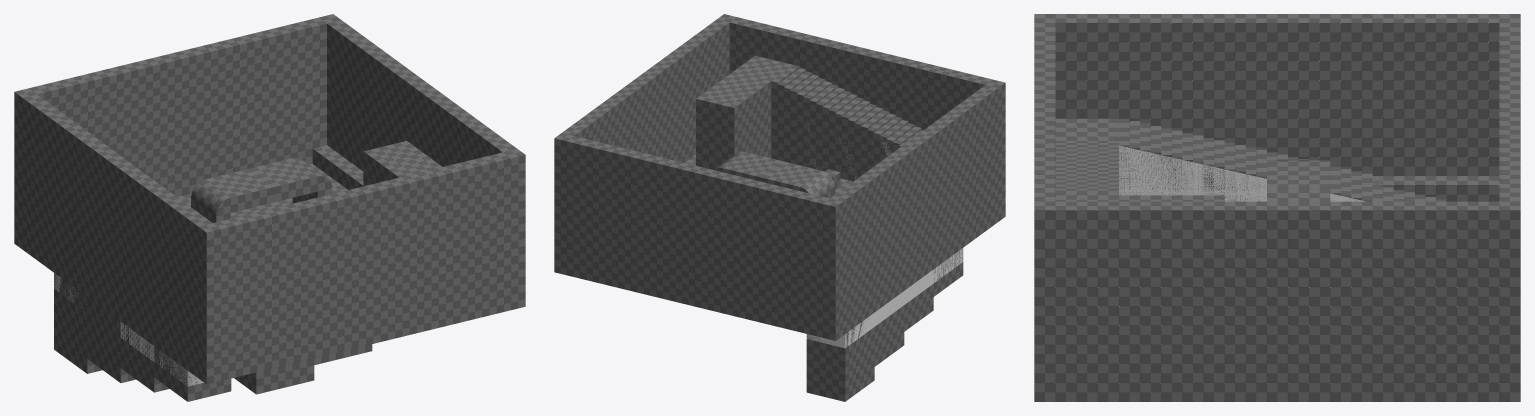
File: test_room.glb
3 views of the same model, side by side, from view 1: azimuth 30°, elevation 25°; view 2: azimuth 150°, elevation 25°; view 3: azimuth 270°, elevation 25° (orthographic). The views are drawn at different scales.
Visible parts, largest first — view 1: E_Mesh_Wall, E_Mesh_Arch, E_Step.001, E_Step.002, E_Mesh_Slab.001, E_Step.004, E_Step.005, E_Step.003, E_Mesh_Edge.001, E_Proxy_Steps, E_Step.006; view 2: E_Mesh_Wall, E_Mesh_Slab.001, E_Step.007, E_Step.006, E_Step.001, E_Mesh_Arch, E_Proxy_Steps, E_Step.005, E_Step.002, E_Step.003, E_Step.004; view 3: E_Mesh_Wall, E_Proxy_Steps, E_Step.004, E_Step.003, E_Mesh_Arch, E_Mesh_Edge.002, E_Mesh_Slab.002, E_Step.002, E_Step.007, E_Mesh_Slab.001, E_Step.006, E_Step.005 (+1 smaller).
Part boxes in pixels (box(x1,y1,x2,y2)): E_Mesh_Wall: box(14, 14, 525, 384); E_Mesh_Arch: box(191, 157, 332, 222); E_Step.001: box(54, 273, 102, 373); E_Step.002: box(87, 297, 135, 382); E_Mesh_Slab.001: box(363, 141, 442, 186); E_Step.004: box(154, 346, 231, 401); E_Step.005: box(234, 358, 314, 394); E_Step.003: box(120, 323, 169, 392); E_Mesh_Edge.001: box(312, 145, 363, 189); E_Proxy_Steps: box(54, 273, 203, 386); E_Step.006: box(314, 344, 372, 364); E_Mesh_Wall: box(554, 14, 1005, 340); E_Mesh_Slab.001: box(696, 55, 792, 169); E_Step.007: box(771, 65, 844, 170); E_Step.006: box(822, 91, 895, 181); E_Step.001: box(806, 321, 874, 401); E_Mesh_Arch: box(714, 151, 834, 198); E_Proxy_Steps: box(806, 248, 963, 348); E_Step.005: box(873, 116, 923, 166); E_Step.002: box(874, 305, 904, 366); E_Step.003: box(904, 284, 933, 331); E_Step.004: box(933, 248, 963, 296); E_Mesh_Wall: box(1034, 14, 1520, 401); E_Proxy_Steps: box(1119, 145, 1365, 201); E_Step.004: box(1119, 118, 1203, 194); E_Step.003: box(1203, 138, 1287, 201); E_Mesh_Arch: box(1267, 160, 1330, 201); E_Mesh_Edge.002: box(1372, 176, 1499, 201); E_Mesh_Slab.002: box(1055, 118, 1118, 142); E_Step.002: box(1288, 157, 1372, 201); E_Step.007: box(1055, 176, 1118, 195); E_Mesh_Slab.001: box(1055, 195, 1224, 201); E_Step.006: box(1055, 159, 1118, 176); E_Step.005: box(1055, 143, 1118, 159).
Size of the model in its own units: 22 by 16 by 23.
Materials: 1 (1 with a texture image).
